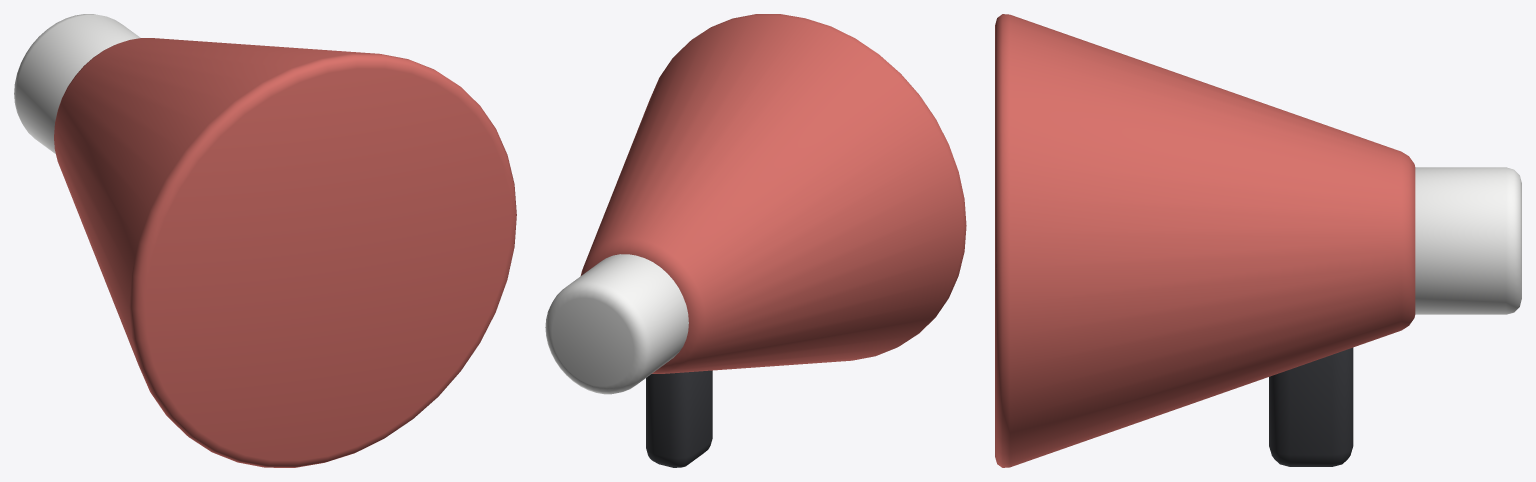
The model's file is activities--recruiting-talks.glb.
3 views of the same model, side by side, from view 1: azimuth 30°, elevation 25°; view 2: azimuth 150°, elevation 25°; view 3: azimuth 270°, elevation 25° (orthographic). The views are drawn at different scales.
Visible parts, largest first — view 1: activities--recruiting-talks; view 2: activities--recruiting-talks; view 3: activities--recruiting-talks.
Boxes of the visible parts, x1,y1,x2,y2 form: activities--recruiting-talks: (14, 14, 516, 467); activities--recruiting-talks: (545, 14, 966, 467); activities--recruiting-talks: (995, 14, 1521, 467).
Bounding box in the file's own units: 0.4309 × 0.4453 × 0.5.
